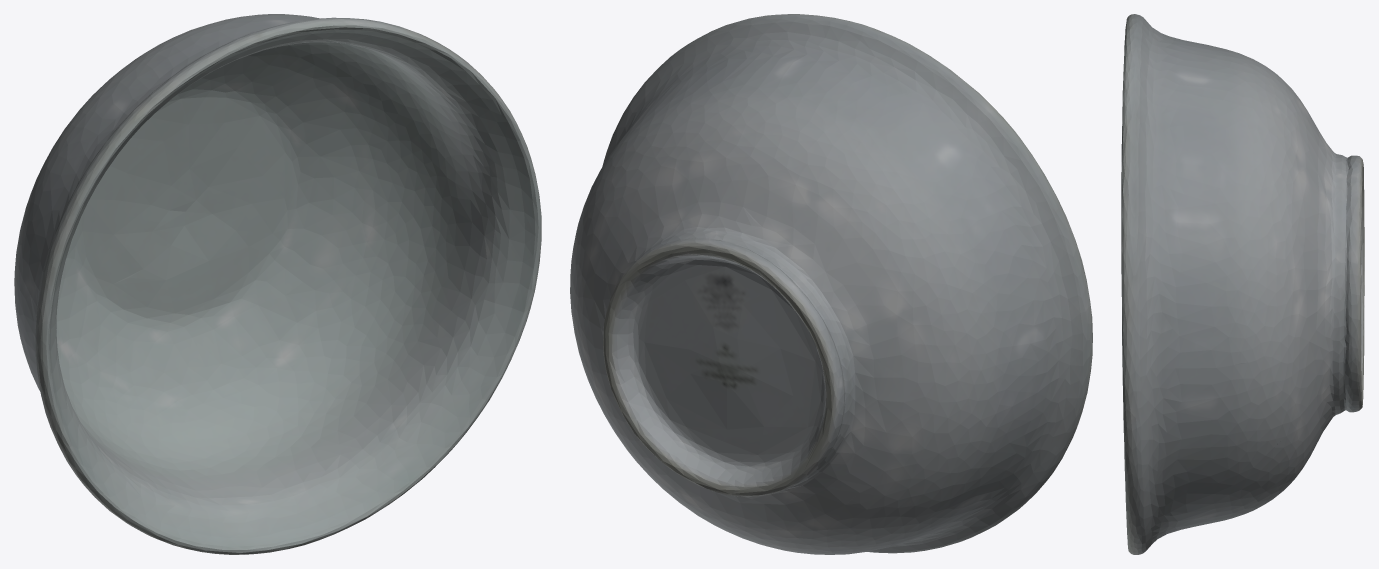
File: Calphalon_Kitchen_Essentials_12_Cast_Iron_Fry_Pan_Black.glb
The picture shows the model from 3 angles, left to right: view 1: azimuth 30°, elevation 25°; view 2: azimuth 150°, elevation 25°; view 3: azimuth 270°, elevation 25°; orthographic projection. The views are drawn at different scales.
Parts seen in each view (by area): view 1: v0; view 2: v0; view 3: v0.
Boxes of the visible parts, x1,y1,x2,y2 form: v0: (14,14,541,554); v0: (570,14,1092,554); v0: (1121,14,1364,554).
Bounding box in the file's own units: 0.3224 × 0.3236 × 0.1462.
1 material, 1 textured.
